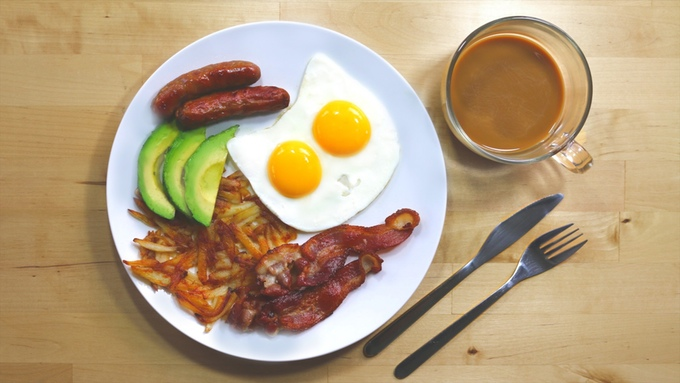fried egg: (246, 115, 403, 200)
